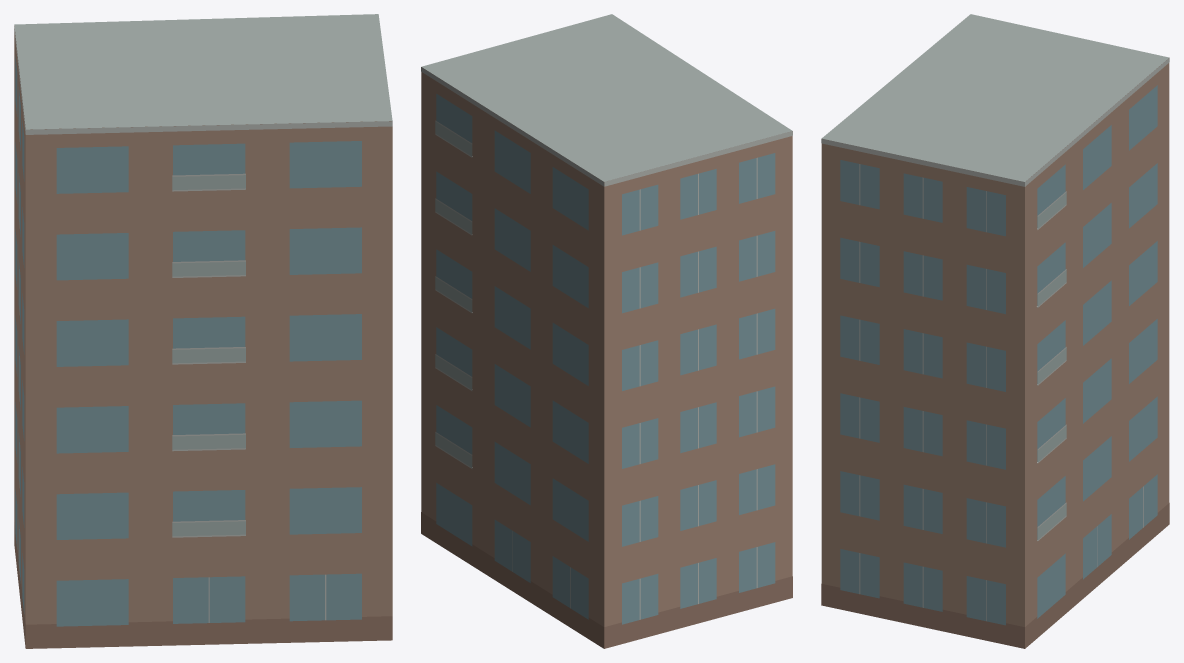
The model's file is survey-upis-33035013.glb.
The picture shows the model from 3 angles, left to right: view 1: azimuth 30°, elevation 25°; view 2: azimuth 150°, elevation 25°; view 3: azimuth 270°, elevation 25°; orthographic projection. The views are drawn at different scales.
Parts seen in each view (by area): view 1: survey-upis-33035013.tmp; view 2: survey-upis-33035013.tmp; view 3: survey-upis-33035013.tmp.
Part boxes in pixels (x1=…): survey-upis-33035013.tmp: x1=14, y1=14, x2=392, y2=648; survey-upis-33035013.tmp: x1=421, y1=14, x2=792, y2=648; survey-upis-33035013.tmp: x1=821, y1=14, x2=1169, y2=648.
Bounding box in the file's own units: 18 × 23.3 × 15.75.
